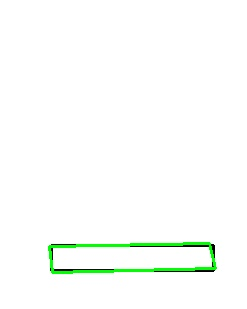line_segment: (49, 243, 216, 273)
